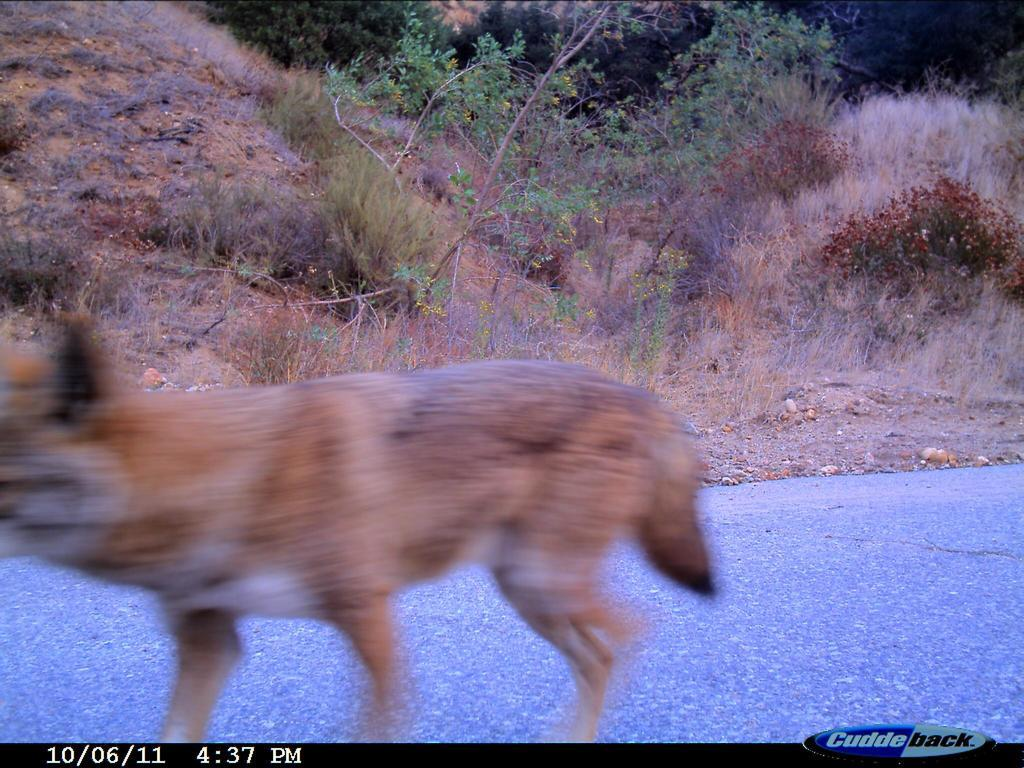coyote: (4, 313, 722, 740)
